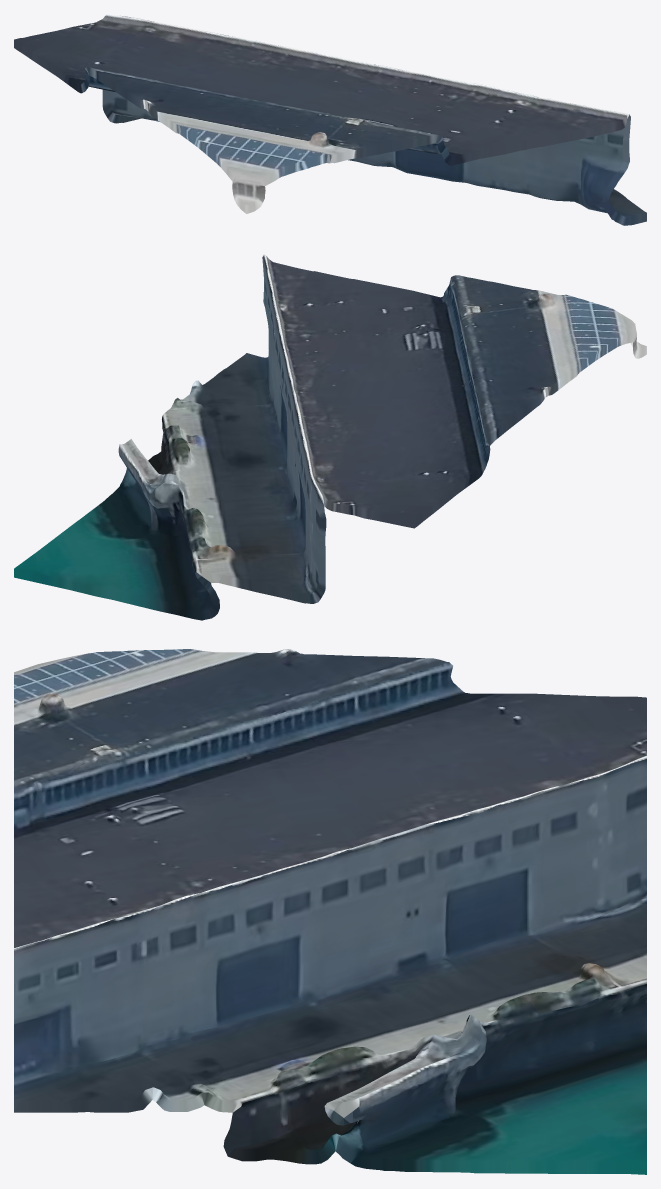
Rendered from z20-167779-405202-h0-yup-uvflip-v3-world.glb.
The picture shows the model from 3 angles, top to bottom: view 1: azimuth 30°, elevation 25°; view 2: azimuth 150°, elevation 25°; view 3: azimuth 270°, elevation 25°; orthographic projection. The views are drawn at different scales.
Size of the model in its own units: 30.16 by 14.36 by 30.32.
Materials: 1 (1 with a texture image).
